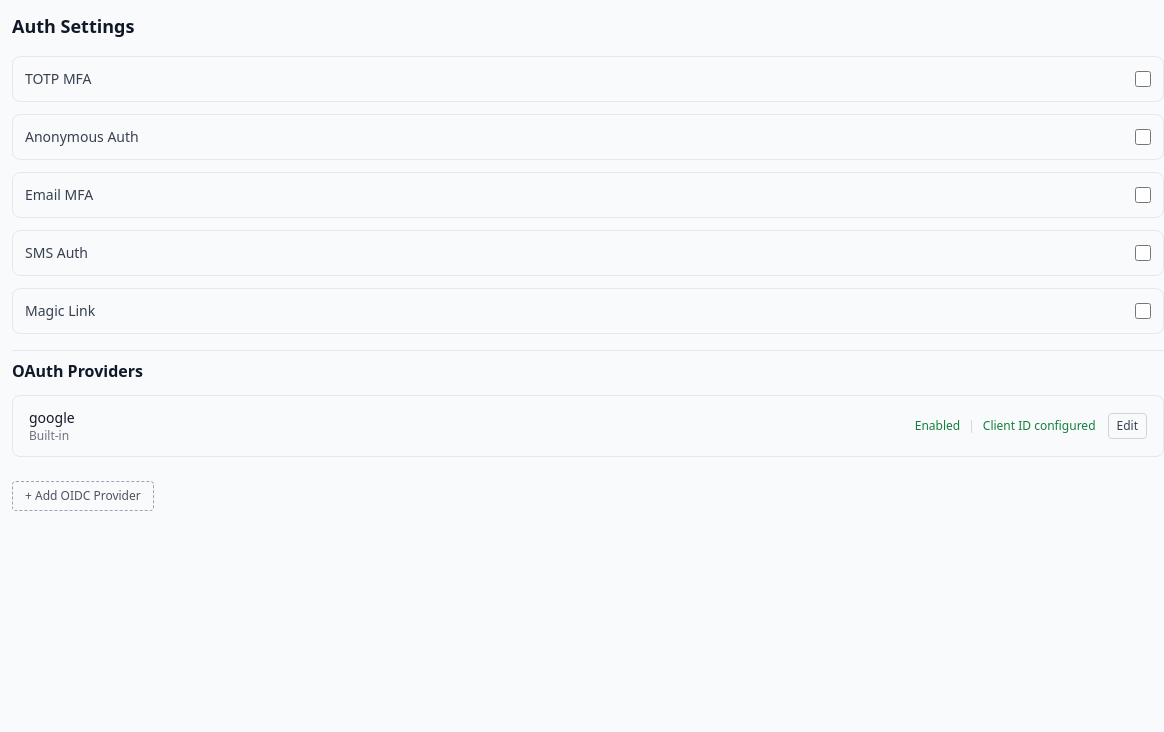
Test case: AuthSettings › shows Testing... state while test connection is in progress
Click the button "Edit": (1127, 426) x1=1108 y1=413 x2=1147 y2=439
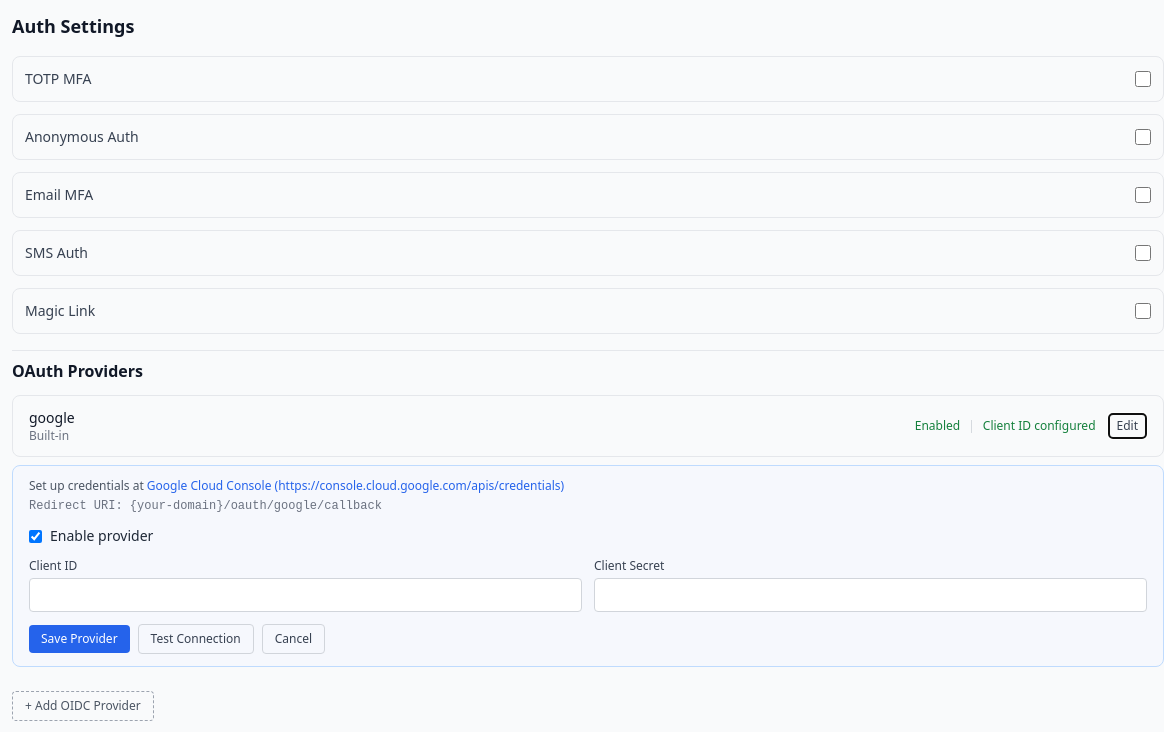
Click the button with test id "provider-form-test": (196, 639) x1=138 y1=624 x2=254 y2=654
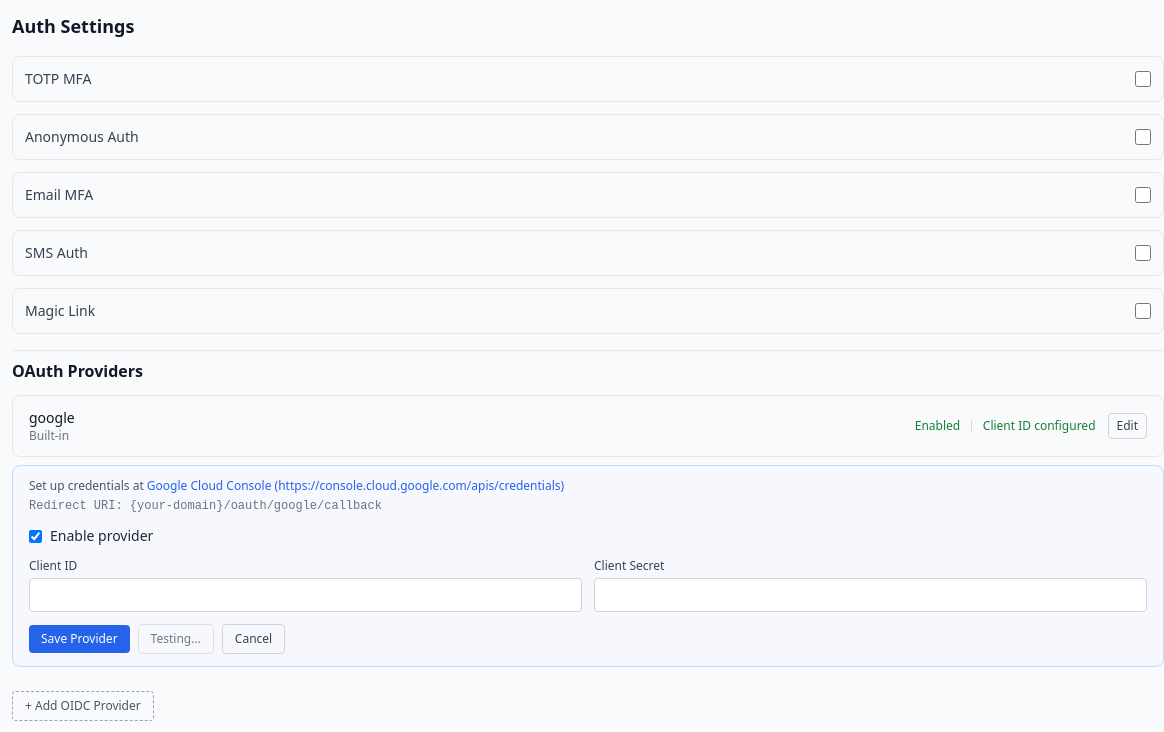
Now the button with test id "provider-form-test" reads "Testing...", box x1=138 y1=624 x2=214 y2=654
